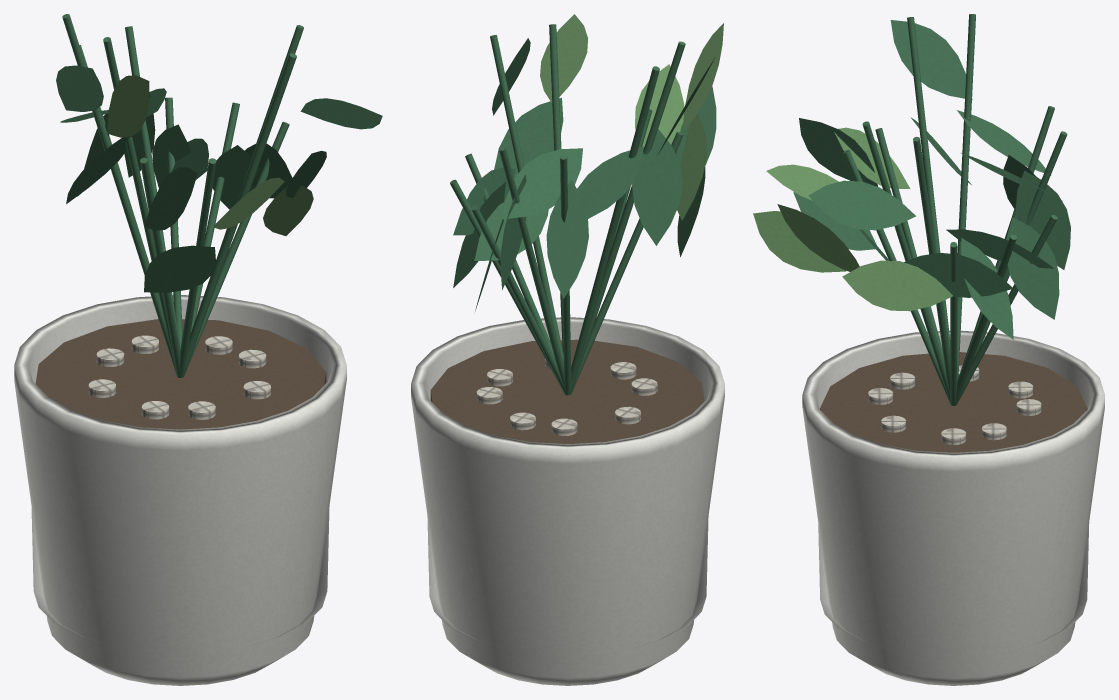
The model's file is detail-plant-round-0.glb.
3 views of the same model, side by side, from view 1: azimuth 30°, elevation 25°; view 2: azimuth 150°, elevation 25°; view 3: azimuth 270°, elevation 25° (orthographic). The views are drawn at different scales.
Visible parts, largest first — view 1: hollow_ceramic_pot, leaf_blade (×14), soil_surface, plant_stem (×10); view 2: hollow_ceramic_pot, leaf_blade (×16), soil_surface, plant_stem (×10); view 3: hollow_ceramic_pot, leaf_blade (×16), soil_surface, plant_stem (×11).
Part boxes in pixels (bbox=[...]): hollow_ceramic_pot: bbox=[14, 295, 346, 685]; leaf_blade (×14): bbox=[56, 65, 382, 292]; soil_surface: bbox=[35, 319, 326, 429]; plant_stem (×10): bbox=[62, 14, 303, 377]; hollow_ceramic_pot: bbox=[411, 317, 724, 685]; leaf_blade (×16): bbox=[453, 14, 723, 298]; soil_surface: bbox=[430, 339, 704, 443]; plant_stem (×10): bbox=[450, 24, 685, 395]; hollow_ceramic_pot: bbox=[802, 330, 1104, 685]; leaf_blade (×16): bbox=[753, 20, 1070, 339]; soil_surface: bbox=[820, 352, 1087, 452]; plant_stem (×11): bbox=[843, 14, 1067, 405].
Size of the model in its own units: 0.6 by 1.28 by 0.6981.
5 materials, 5 textured.
